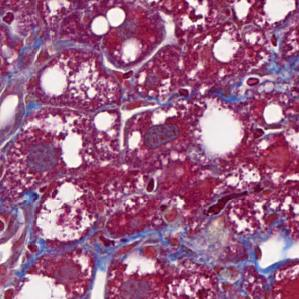steatosis: (198, 102, 245, 156), (60, 128, 89, 172), (41, 62, 67, 100), (108, 3, 127, 37), (89, 9, 108, 40)
